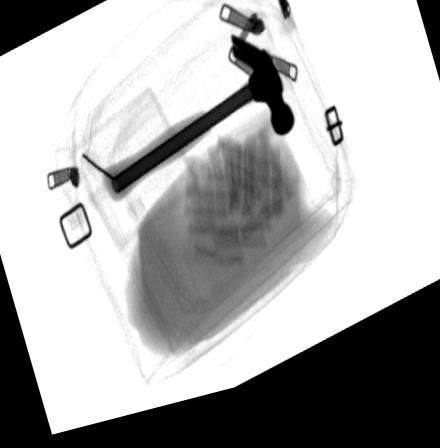Hammer: (104, 42, 296, 210)
